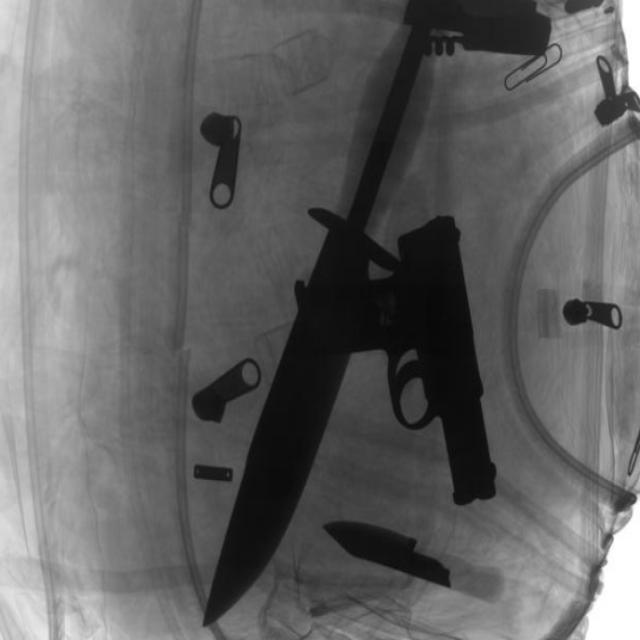GUN: (269, 211, 509, 506)
KNIFE: (319, 507, 456, 605)
